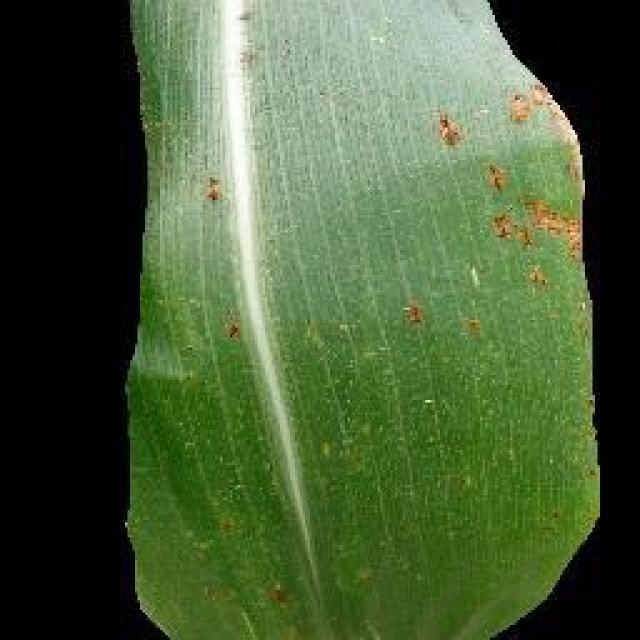Corn Common Rust: (158, 72, 592, 373)
